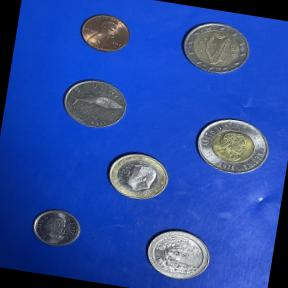1 Euro-B: (100, 145, 176, 207)
2 Euro-B: (172, 16, 256, 83)
Canada-10cent-B: (24, 204, 86, 254)
Canada-2Dollar-B: (188, 109, 277, 183)
Croatia-2Kune-B: (56, 72, 132, 134)
US-1cent-B: (75, 9, 135, 59)
US-25cent-B: (139, 223, 218, 287)
